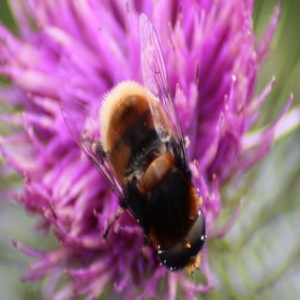bee: (67, 13, 222, 276)
